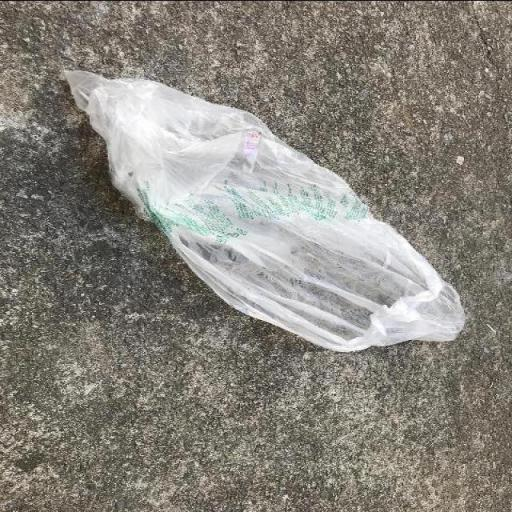plastic-bag: (56, 63, 470, 352)
